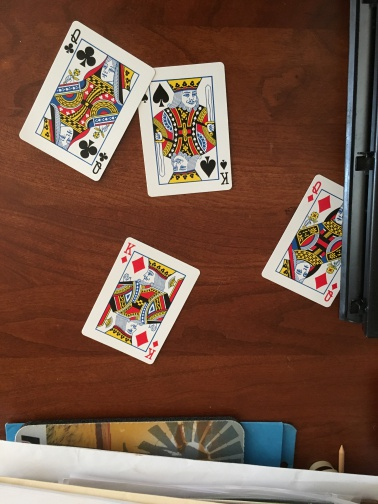king: (81, 236, 200, 363), (141, 59, 236, 195)
queen: (17, 19, 140, 182), (260, 173, 342, 308)
